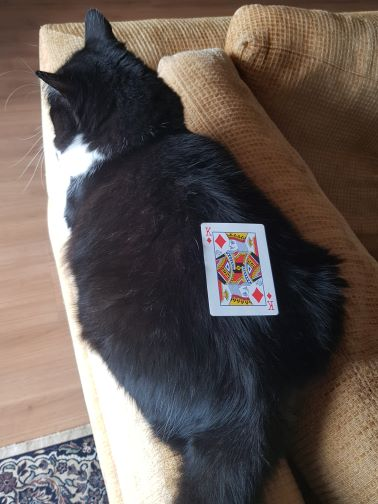king: (199, 221, 279, 318)
